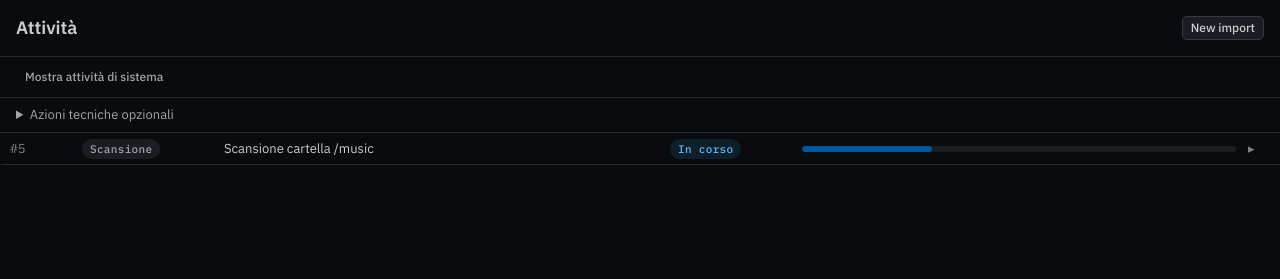
Activity grouping › shows outcome, progress and cancellable Annulla for running activity
Expected: the text "Scansione cartella /music" is shown, [224,140,374,156]
Expected: the text "In corso" is shown, [670,138,742,158]
Step 1. Click the button "Scansione cartella /music" → (640, 149), box [0,133,1279,165]
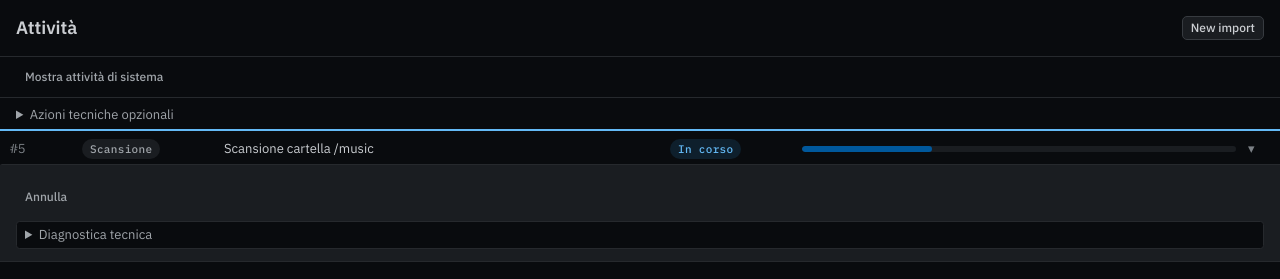
Expected: the button "Annulla" is shown, [16,185,76,209]
